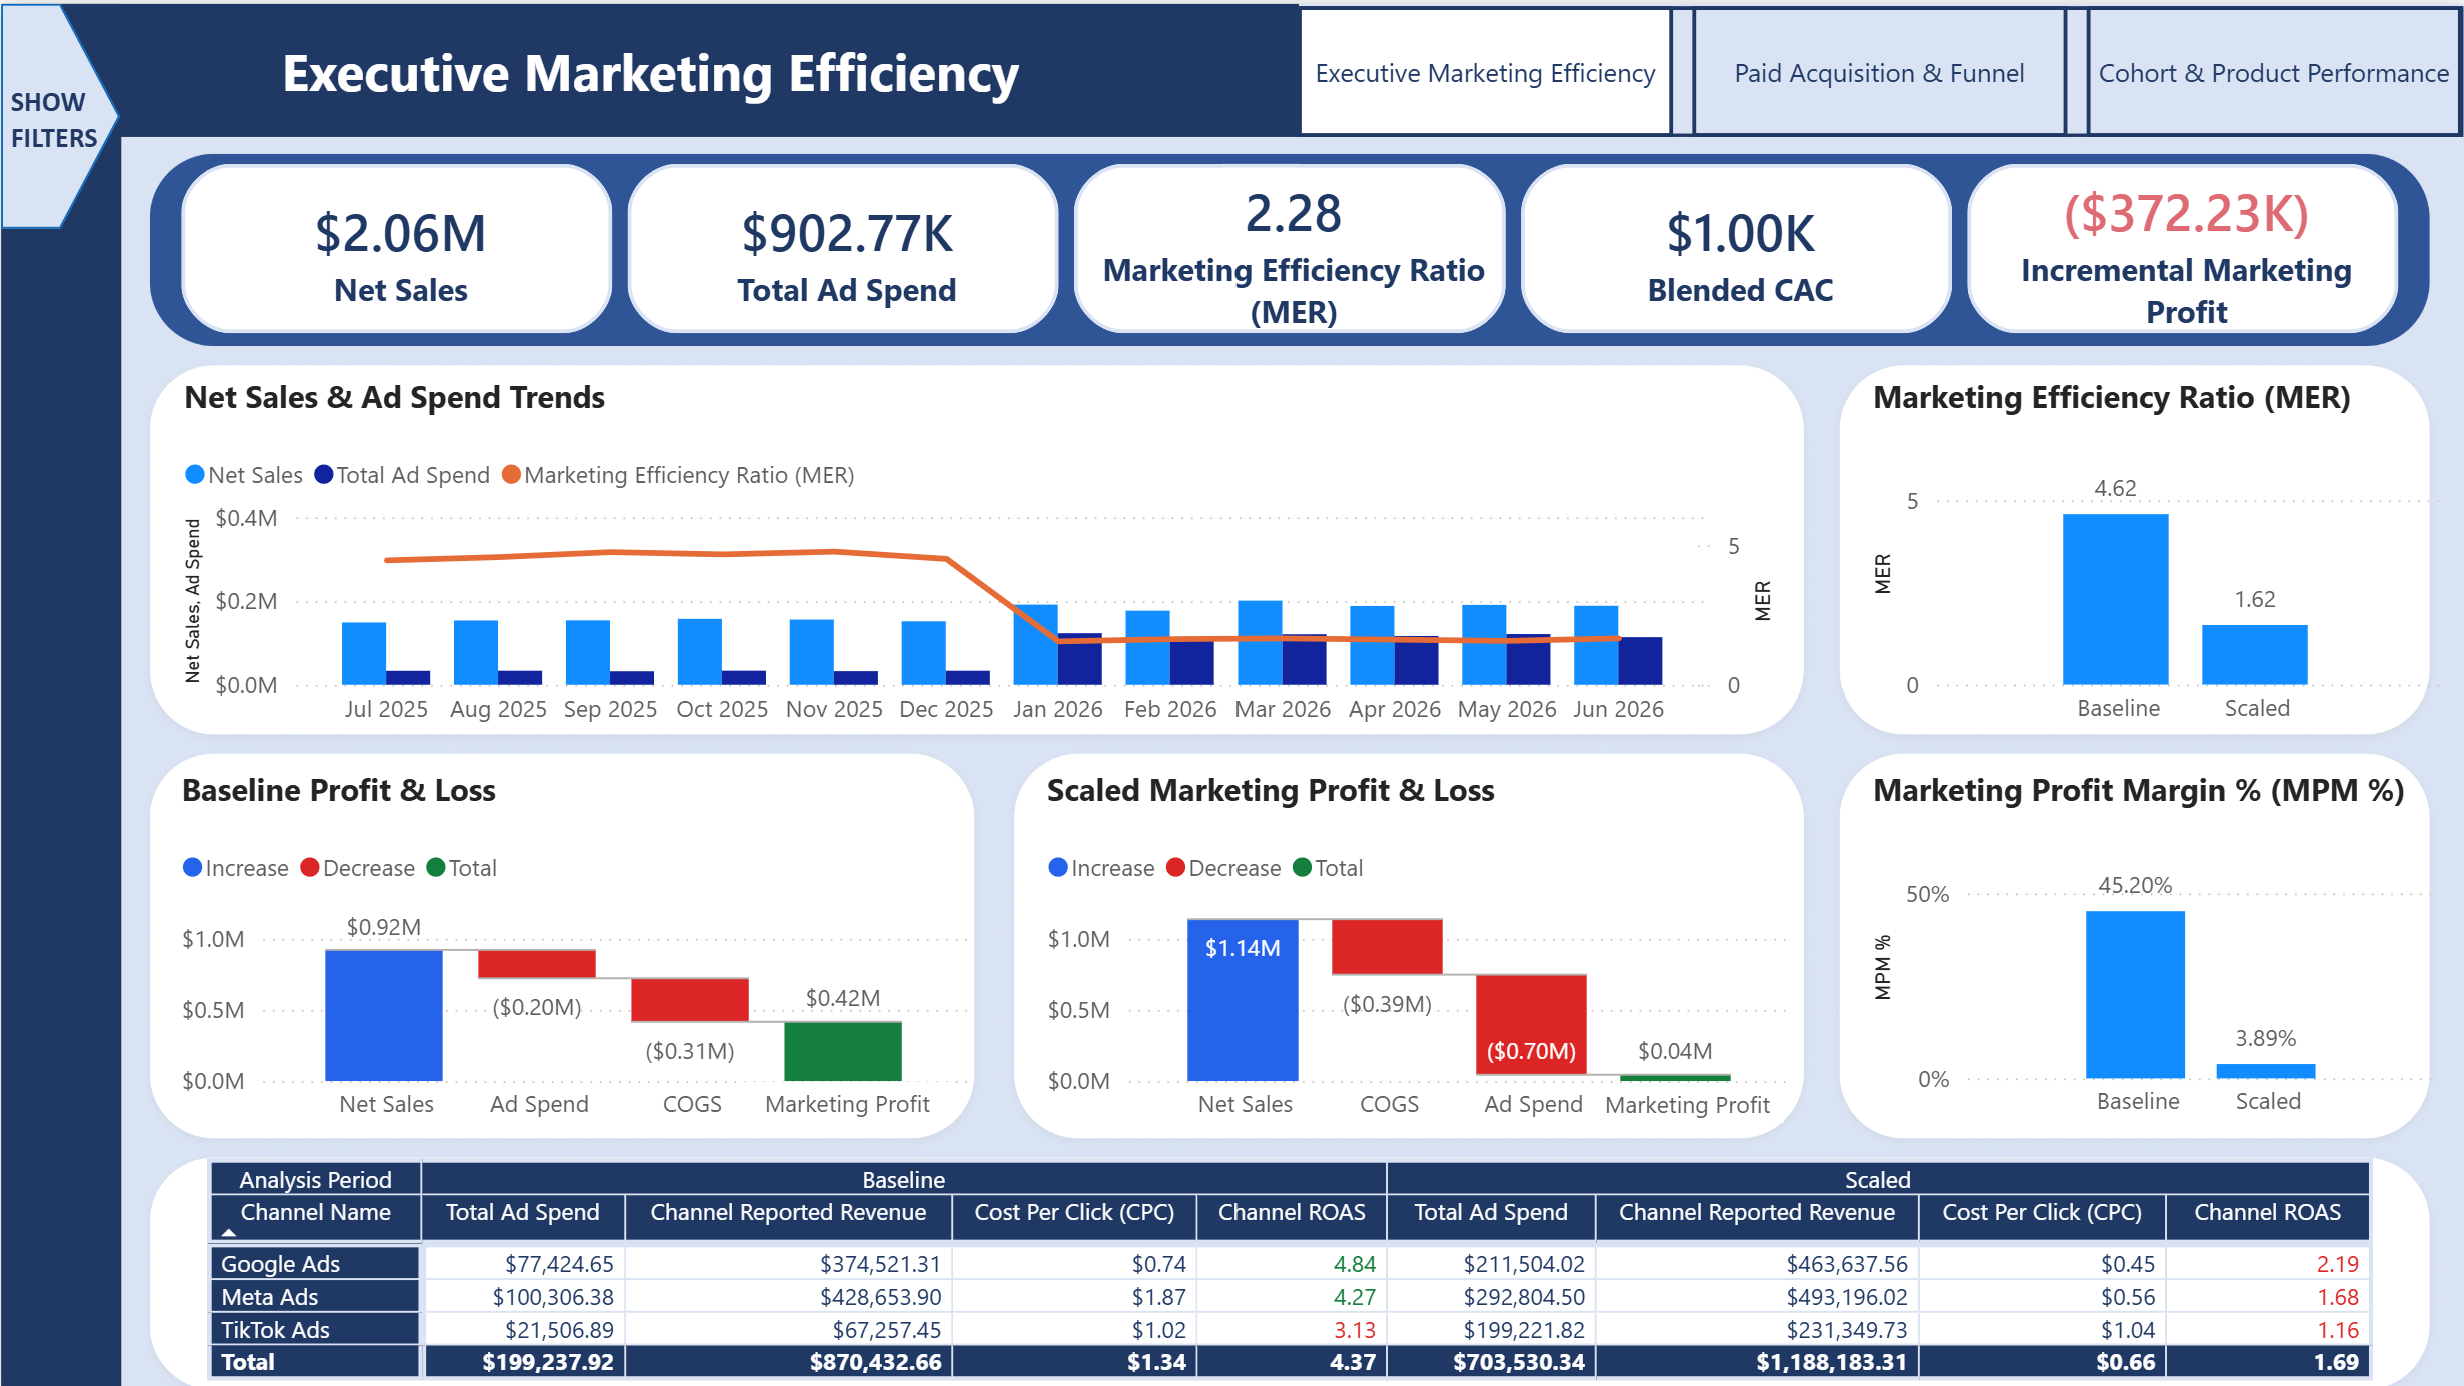

This screenshot's page, from the dashboard's own definition file:
{"tool":"powerbi","page":{"name":"Executive Marketing Efficiency","canvas":[1280,720],"ordinal":0},"visuals":[{"type":"shape","title":"Rectangle","box":[0,0,62.5,720],"z":0,"group":"g1"},{"type":"cardVisual","fields":{"Data":["_Measures.Net Sales","_Measures.Total Ad Spend","_Measures.Marketing Efficiency Ratio (MER)","_Measures.Incremental Marketing Profit"]},"box":[88.6,81.4,1165.7,92.9],"z":0},{"type":"shape","box":[0,0,61.8,117],"z":1000,"group":"g1"},{"type":"lineClusteredColumnComboChart","title":"Net Sales & Ad Spend Trends","fields":{"Category":["dim_calendar.month_year"],"Y":["_Measures.Net Sales","_Measures.Total Ad Spend"],"Y2":["_Measures.Marketing Efficiency Ratio (MER)"]},"box":[89.8,192.9,836.2,191.5],"z":1000},{"type":"textbox","box":[0,35.7,78.6,55.7],"z":2000,"group":"g1"},{"type":"pivotTable","fields":{"Columns":["dim_calendar.Analysis Period"],"Rows":["dim_channels.channel_name"],"Values":["_Measures.Total Ad Spend","_Measures.Channel Reported Revenue","_Measures.Cost Per Click (CPC)","_Measures.Channel ROAS"]},"box":[102.6,600.2,1137.6,119.4],"z":2000},{"type":"actionButton","box":[0,0,61.8,117],"z":2500,"group":"g1"},{"type":"clusteredColumnChart","title":"Marketing Efficiency Ratio (MER)","fields":{"Category":["dim_calendar.Analysis Period"],"Y":["_Measures.Marketing Efficiency Ratio (MER)"]},"box":[967.1,192.9,304.3,191.4],"z":3000},{"type":"clusteredColumnChart","title":"Marketing Profit Margin % (MPM %)","fields":{"Category":["dim_calendar.Analysis Period"],"Y":["_Measures.Marketing Profit Margin %"]},"box":[967.8,396,304.1,191.9],"z":4000},{"type":"pageNavigator","box":[674.3,1.4,605.7,68.6],"z":5000},{"type":"shape","title":"top divider box","box":[1.6,1.6,1278.4,68.2],"z":6000},{"type":"shape","title":"title","box":[1.4,0,672.9,68.6],"z":7000},{"type":"waterfallChart","title":"Scaled Marketing Profit & Loss","fields":{"Category":["_waterfall_structure.StepName"],"Y":["_Measures.Waterfall Value"]},"box":[539.3,396,397.4,193.3],"z":8000},{"type":"waterfallChart","title":"Baseline Profit & Loss","fields":{"Category":["_waterfall_structure.StepName"],"Y":["_Measures.Waterfall Value"]},"box":[89.2,396,419,193.3],"z":9000},{"type":"group","id":"g1","title":"Collapsed Slicer Pane","box":[0,0,78.6,720],"z":10000},{"type":"shape","box":[385,560,110,21.2],"z":12000},{"type":"shape","box":[826.2,561.2,100,20],"z":13000}]}

Visuals, with their boxes in screenshot pixels (x1, y1, x2, y2), scaled from the page's 1280x720 canvas onto the 2464x1386 screenshot:
"Rectangle" shape: [left=0, top=0, right=120, bottom=1385]
cardVisual - _Measures.Net Sales x _Measures.Total Ad Spend: [left=171, top=157, right=2415, bottom=336]
shape: [left=0, top=0, right=119, bottom=225]
"Net Sales & Ad Spend Trends" lineClusteredColumnComboChart: [left=173, top=371, right=1783, bottom=740]
textbox: [left=0, top=69, right=151, bottom=176]
pivotTable - dim_calendar.Analysis Period x dim_channels.channel_name: [left=198, top=1155, right=2387, bottom=1385]
actionButton: [left=0, top=0, right=119, bottom=225]
"Marketing Efficiency Ratio (MER)" clusteredColumnChart: [left=1862, top=371, right=2447, bottom=740]
"Marketing Profit Margin % (MPM %)" clusteredColumnChart: [left=1863, top=762, right=2448, bottom=1132]
pageNavigator: [left=1298, top=3, right=2463, bottom=135]
"top divider box" shape: [left=3, top=3, right=2463, bottom=134]
"title" shape: [left=3, top=0, right=1298, bottom=132]
"Scaled Marketing Profit & Loss" waterfallChart: [left=1038, top=762, right=1803, bottom=1134]
"Baseline Profit & Loss" waterfallChart: [left=172, top=762, right=978, bottom=1134]
"Collapsed Slicer Pane" group: [left=0, top=0, right=151, bottom=1385]
shape: [left=741, top=1078, right=953, bottom=1119]
shape: [left=1590, top=1080, right=1783, bottom=1119]
